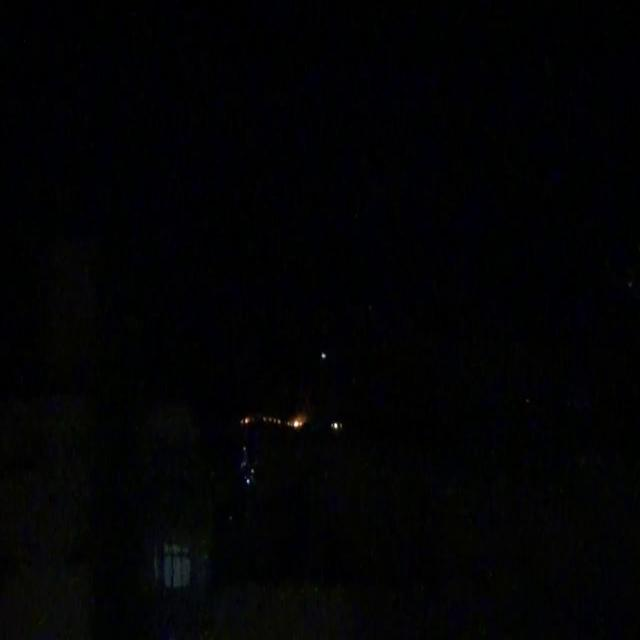Fire: (288, 416, 304, 427), (241, 415, 249, 425)
